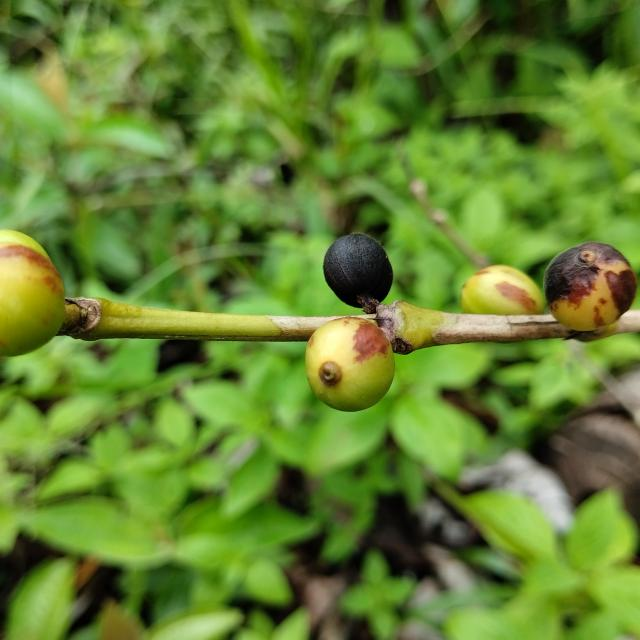Overripe: (306, 317, 395, 412), (545, 242, 638, 331), (0, 242, 64, 356), (323, 233, 393, 313), (461, 265, 545, 315)
Unripe: (0, 229, 49, 259)
